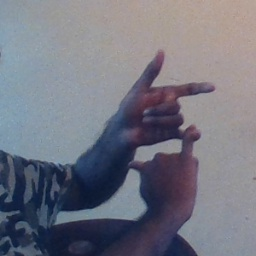S: (109, 48, 227, 177)
